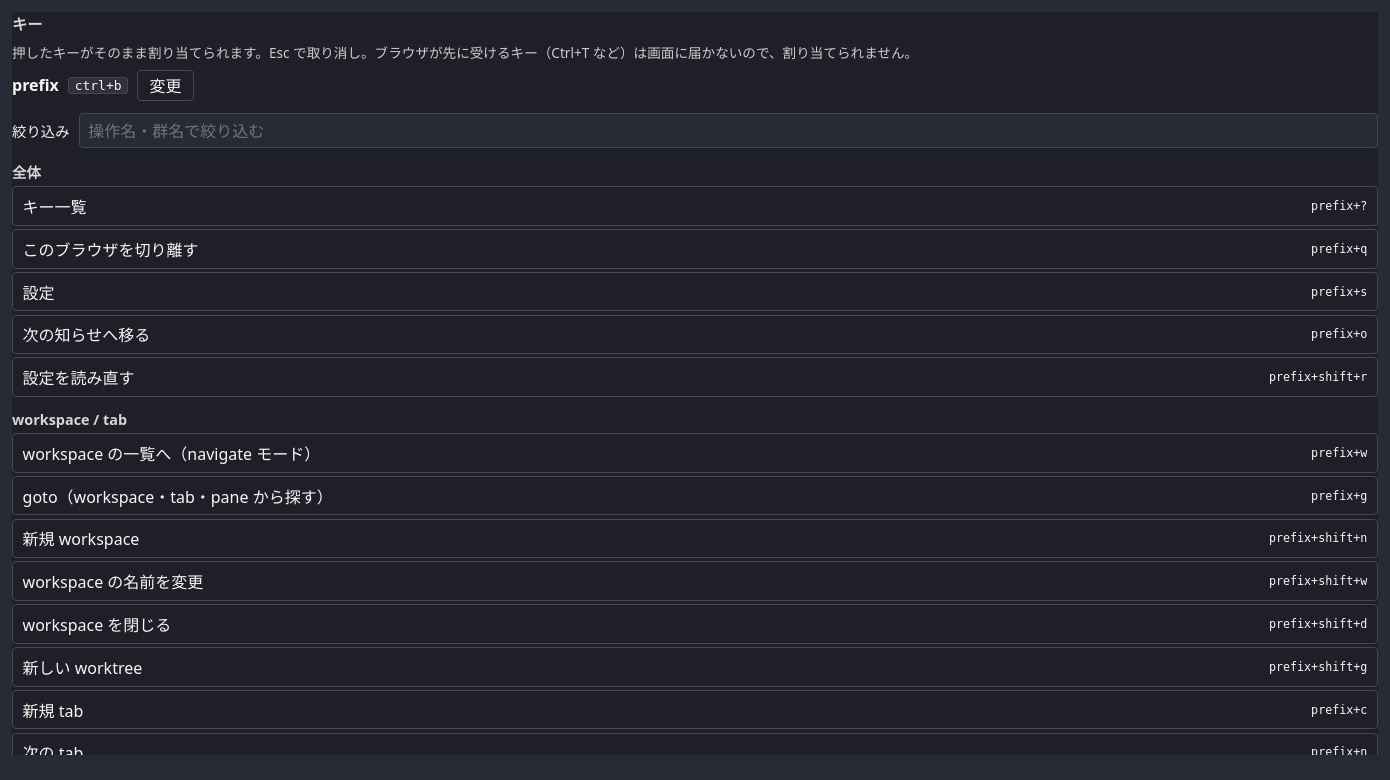
Test: KeySettings — prefix の変更（AC3・AC-I1〜I5） › 送れない形は理由を出して元のまま終わる（AC6・AC-I2）
Click the button "変更" at [166, 85], box top-left (137, 70), bottom-right (194, 101)
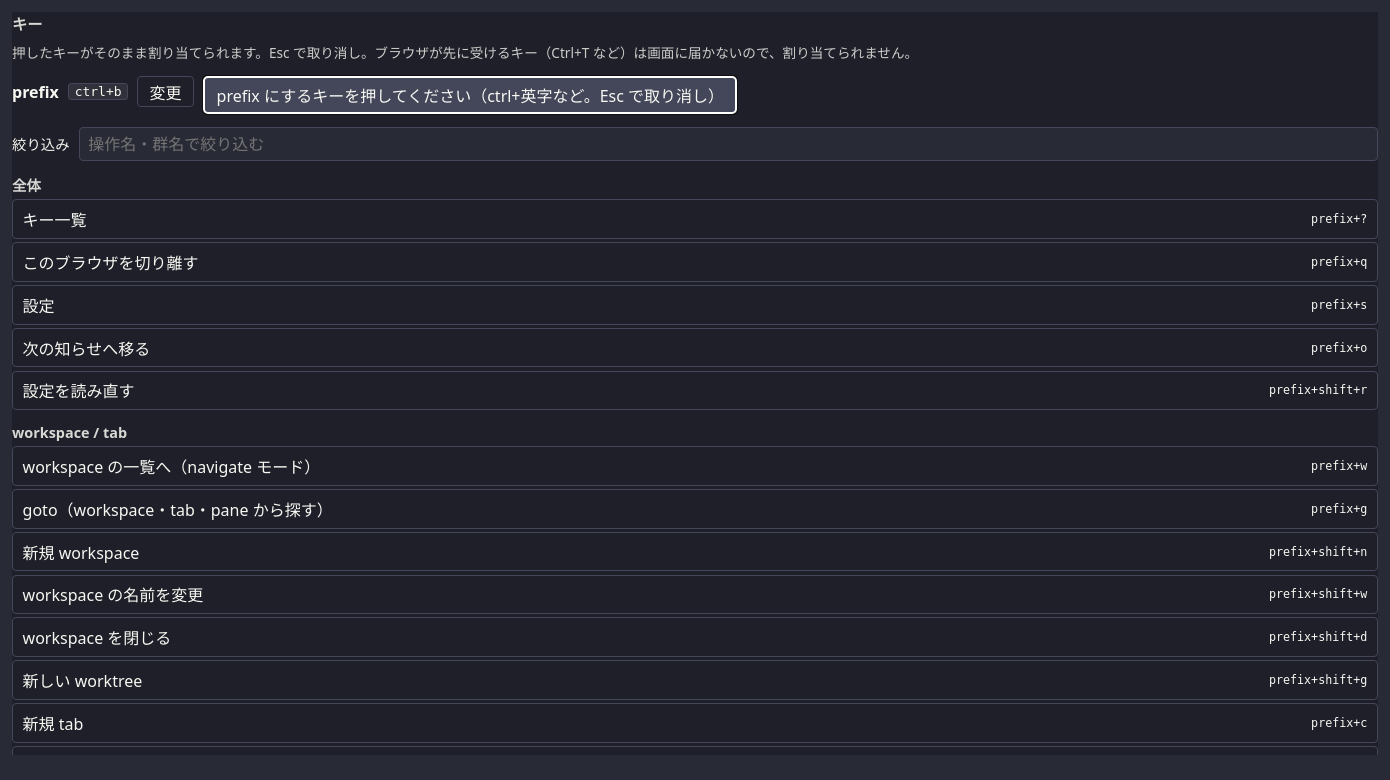
Press a in the button with class "keys-capture", box top-left (203, 76), bottom-right (737, 114)
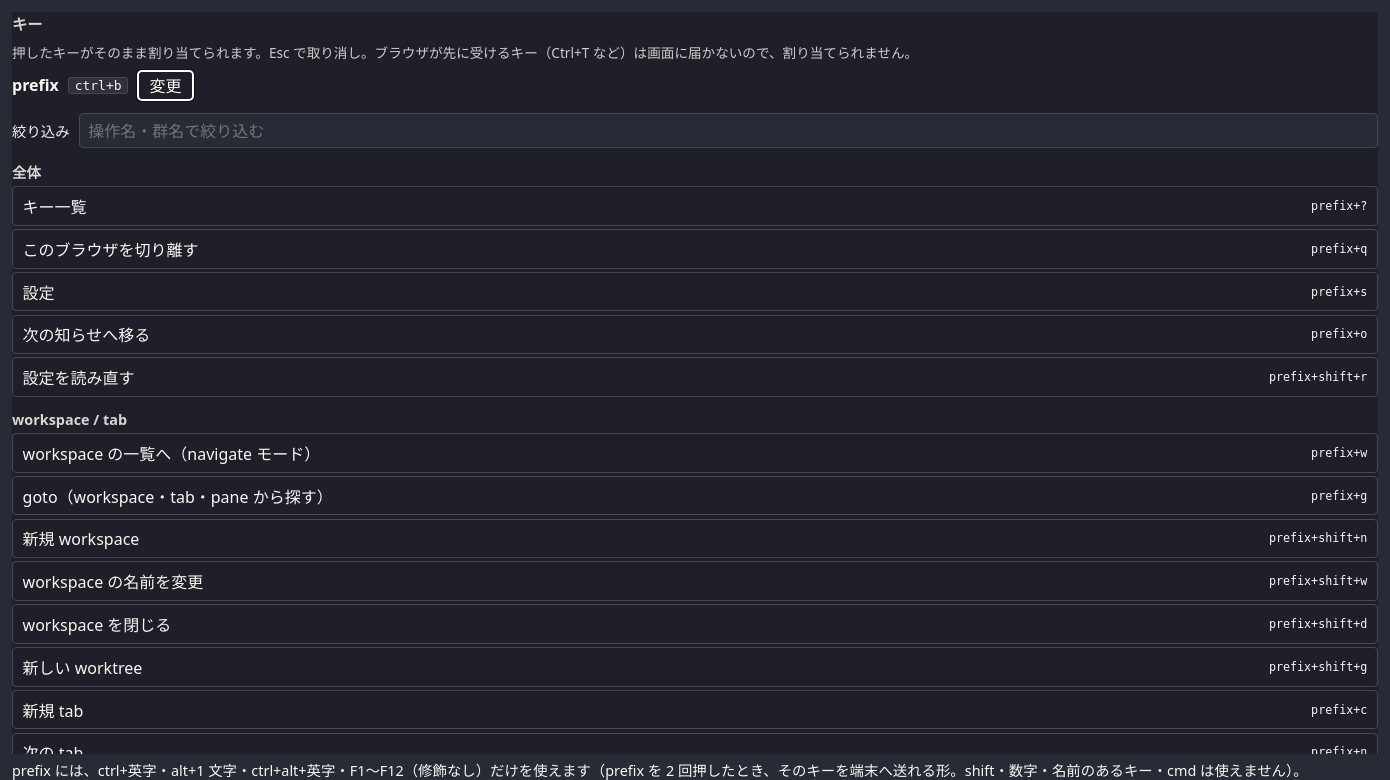
Expected: the text "ctrl+b" is shown, top-left (68, 77), bottom-right (128, 94)
Result: the message shows "prefix には" at top-left (12, 761), bottom-right (1308, 779)
Result: the button with class "keys-capture" is gone
